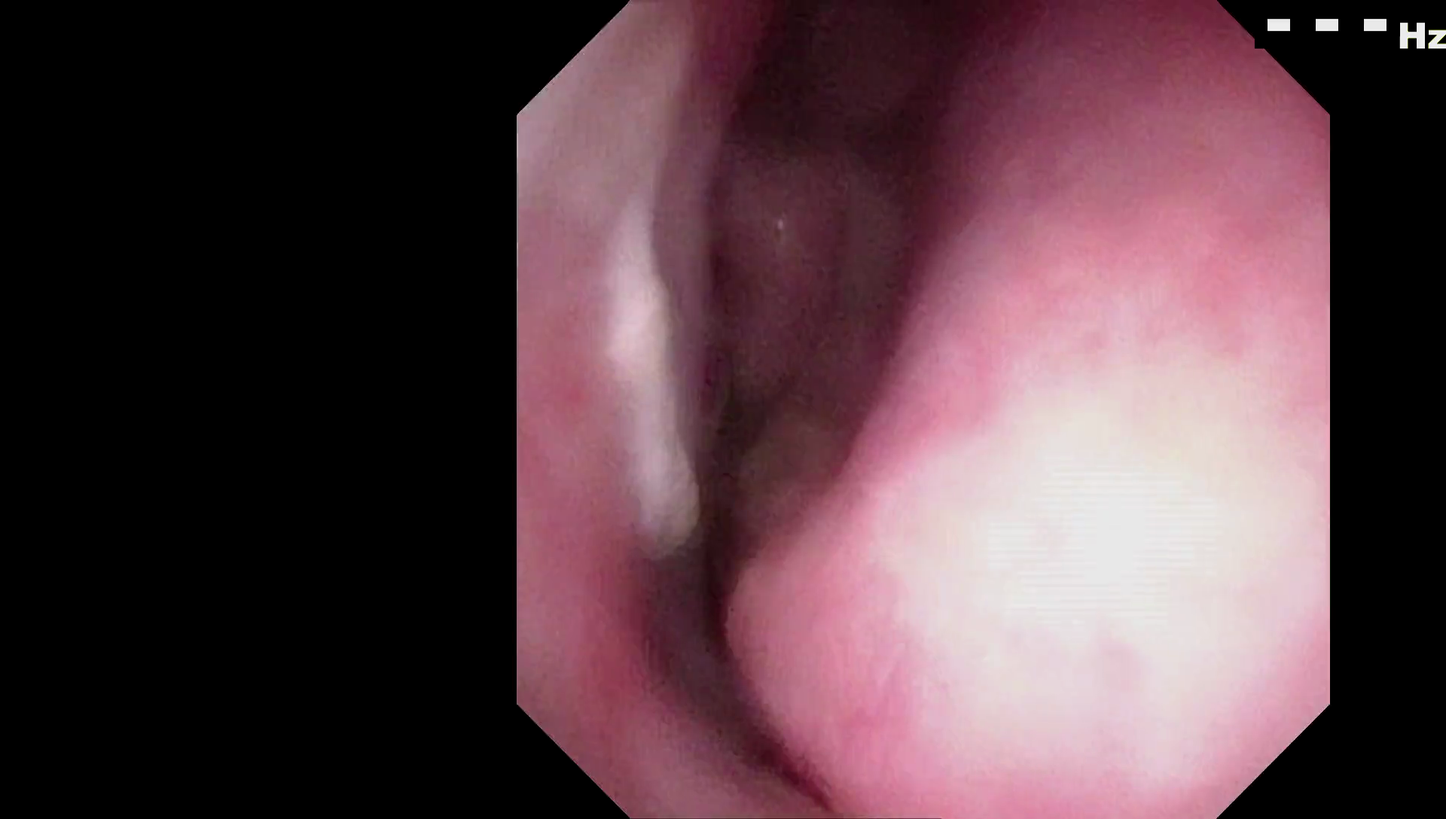close_wall: (868, 342, 1281, 745)
next: (673, 351, 797, 729)
